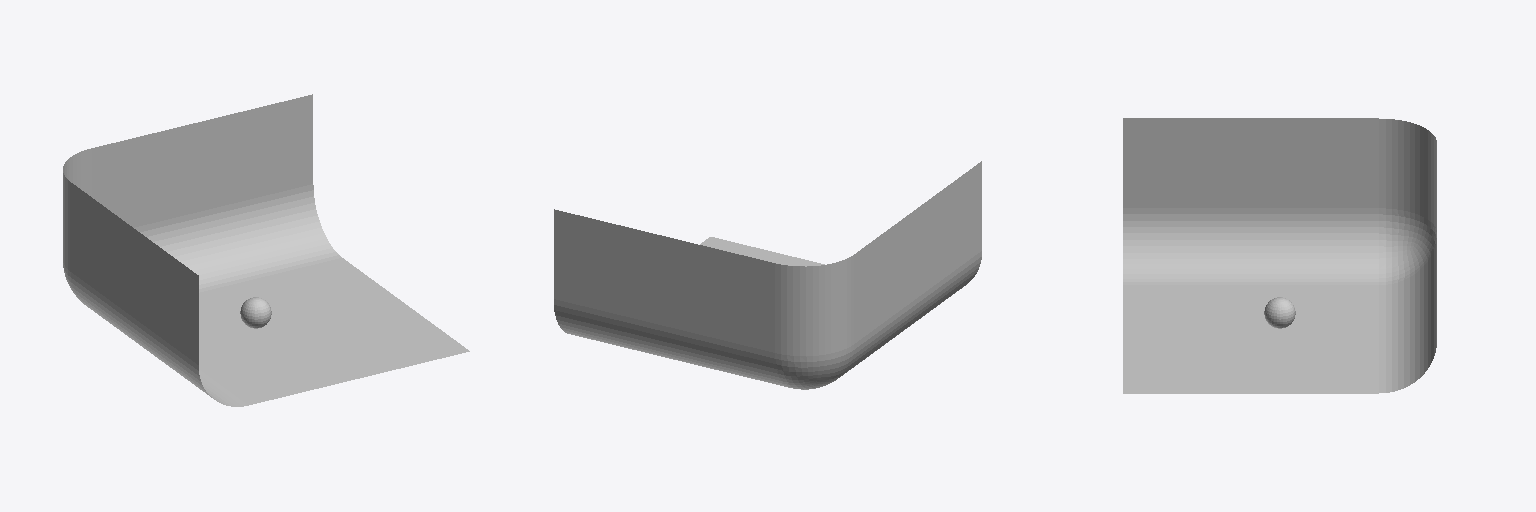
Rendered from Lava.obj.
The picture shows the model from 3 angles: view 1: azimuth 30°, elevation 25°; view 2: azimuth 150°, elevation 25°; view 3: azimuth 270°, elevation 25°; orthographic projection.
Visible parts, largest first — view 1: Plane, Sphere; view 2: Plane; view 3: Plane, Sphere.
Part boxes in pixels (x1,y1,x2,y2): Plane: (63,94,469,406); Sphere: (240,297,271,328); Plane: (554,161,981,389); Plane: (1123,118,1436,393); Sphere: (1264,297,1295,328).
Bounding box in the file's own units: 20 × 10 × 20.